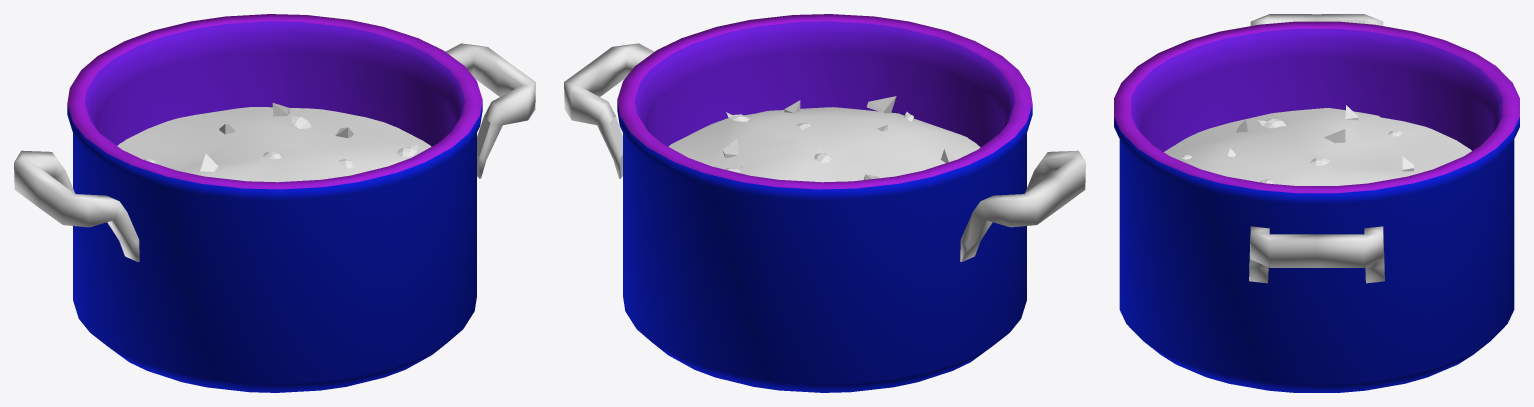
Rendered from redsauce.fbx.
3 renders of one model, left to right at view 1: azimuth 30°, elevation 25°; view 2: azimuth 150°, elevation 25°; view 3: azimuth 270°, elevation 25°, orthographic.
Parts seen in each view (by area): view 1: Cylinder.005, Cylinder.008, Cylinder.006, Herbs.001, Tomato Chunks.001; view 2: Cylinder.005, Cylinder.008, Cylinder.006, Tomato Chunks.001, Herbs.001; view 3: Cylinder.005, Cylinder.008, Cylinder.006, Tomato Chunks.001, Herbs.001.
Part boxes in pixels (bbox=[...]): Cylinder.005: bbox=[67, 14, 482, 392]; Cylinder.008: bbox=[117, 107, 431, 182]; Cylinder.006: bbox=[14, 43, 535, 261]; Herbs.001: bbox=[143, 115, 418, 168]; Tomato Chunks.001: bbox=[200, 103, 353, 171]; Cylinder.005: bbox=[617, 14, 1032, 392]; Cylinder.008: bbox=[668, 107, 980, 182]; Cylinder.006: bbox=[564, 43, 1085, 261]; Tomato Chunks.001: bbox=[723, 96, 956, 179]; Herbs.001: bbox=[725, 112, 913, 172]; Cylinder.005: bbox=[1114, 21, 1519, 392]; Cylinder.008: bbox=[1164, 108, 1471, 185]; Cylinder.006: bbox=[1249, 14, 1384, 283]; Tomato Chunks.001: bbox=[1227, 105, 1413, 171]; Herbs.001: bbox=[1181, 118, 1402, 183].
Bounding box in the file's own units: 62.94 × 35.99 × 83.38.
